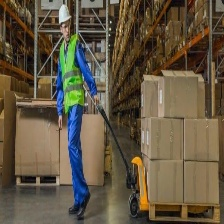helmet: (57, 4, 71, 30)
person: (55, 2, 98, 217)
vest: (57, 33, 92, 114)
